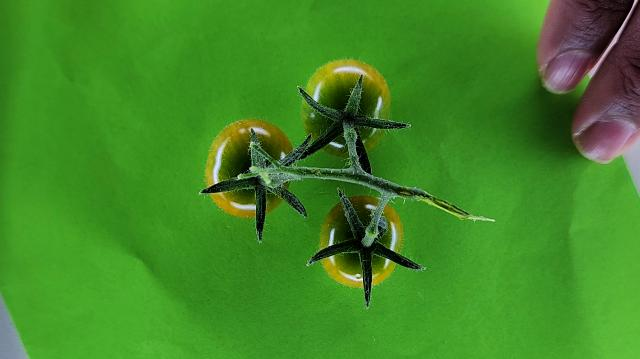Fully Grown: (204, 118, 295, 217), (301, 58, 391, 156), (319, 195, 405, 289)
